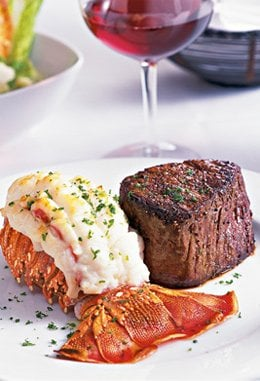soup: (0, 169, 151, 311), (117, 158, 254, 289)
sushi: (0, 1, 84, 140)
